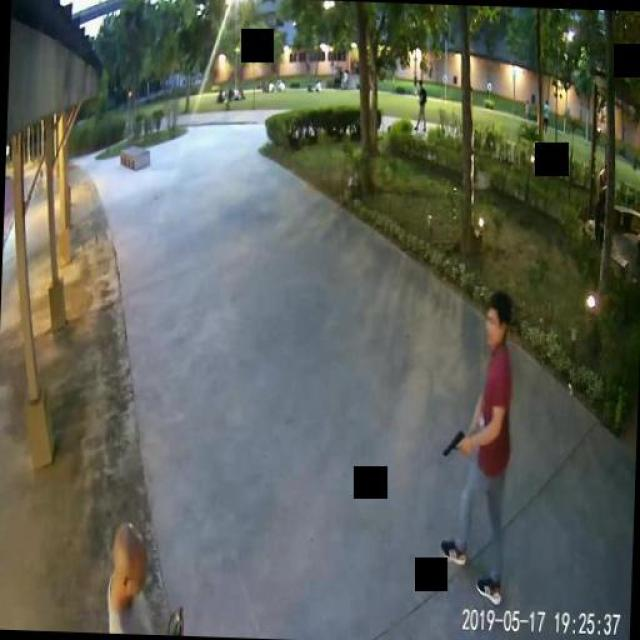gun: (442, 428, 466, 458)
